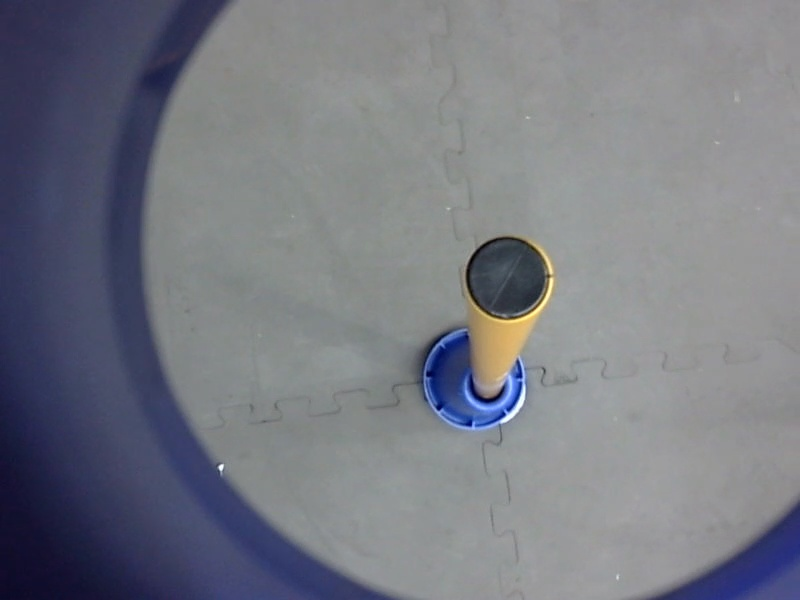tip: (455, 227, 561, 330)
